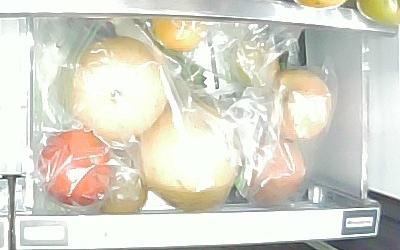peach_vinyl: (234, 137, 309, 209), (268, 66, 335, 143)
pear_vinyl: (137, 103, 238, 214), (71, 36, 169, 139)
tangerine_vinyl: (100, 161, 148, 214), (152, 17, 207, 51)
tomato_vinyl: (38, 128, 110, 206)
